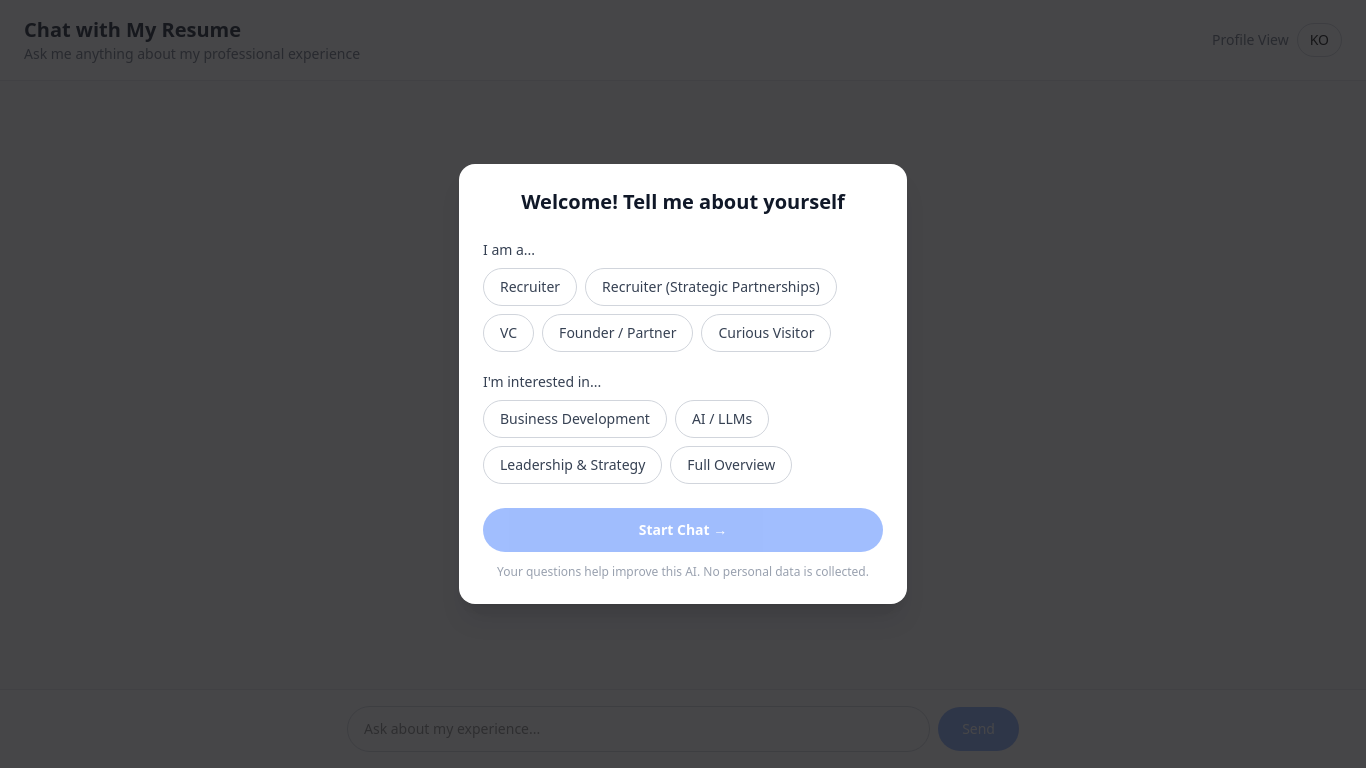
Test: late legacy welcome cannot replace a user message or reset
Click the radio button labelled "Recruiter" at (530, 287), box [483, 268, 577, 306]
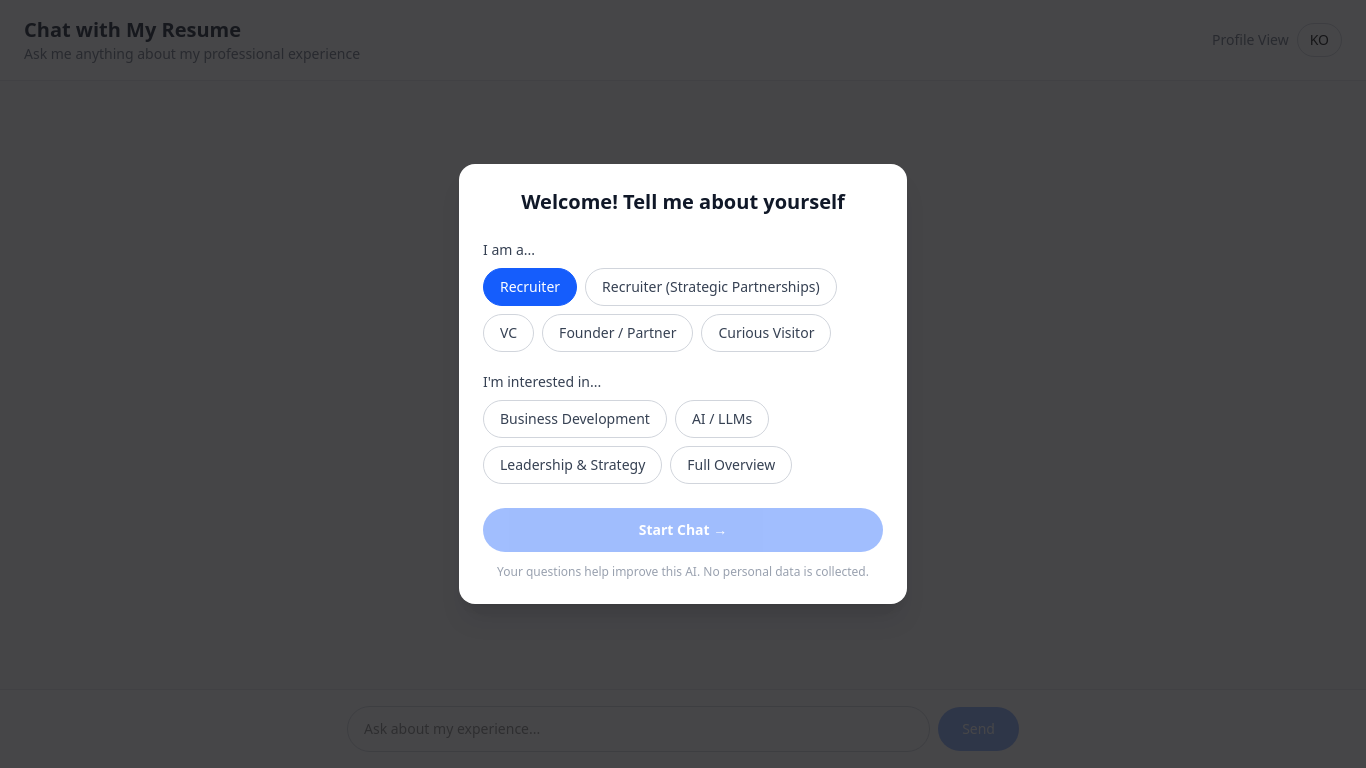
Click the radio button labelled "Business Development" at (575, 419), box [483, 400, 667, 438]
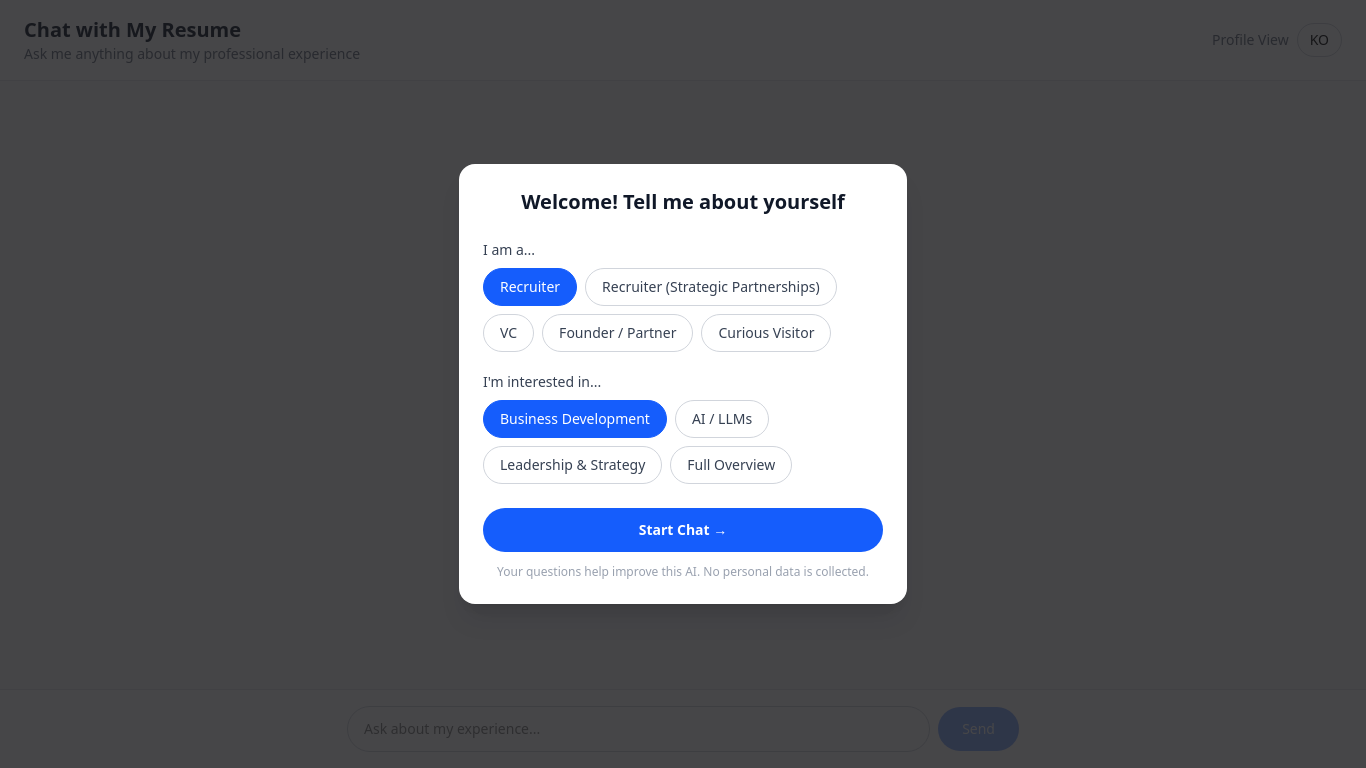
Click the button "Start Chat →" at (683, 530), box [483, 508, 883, 552]
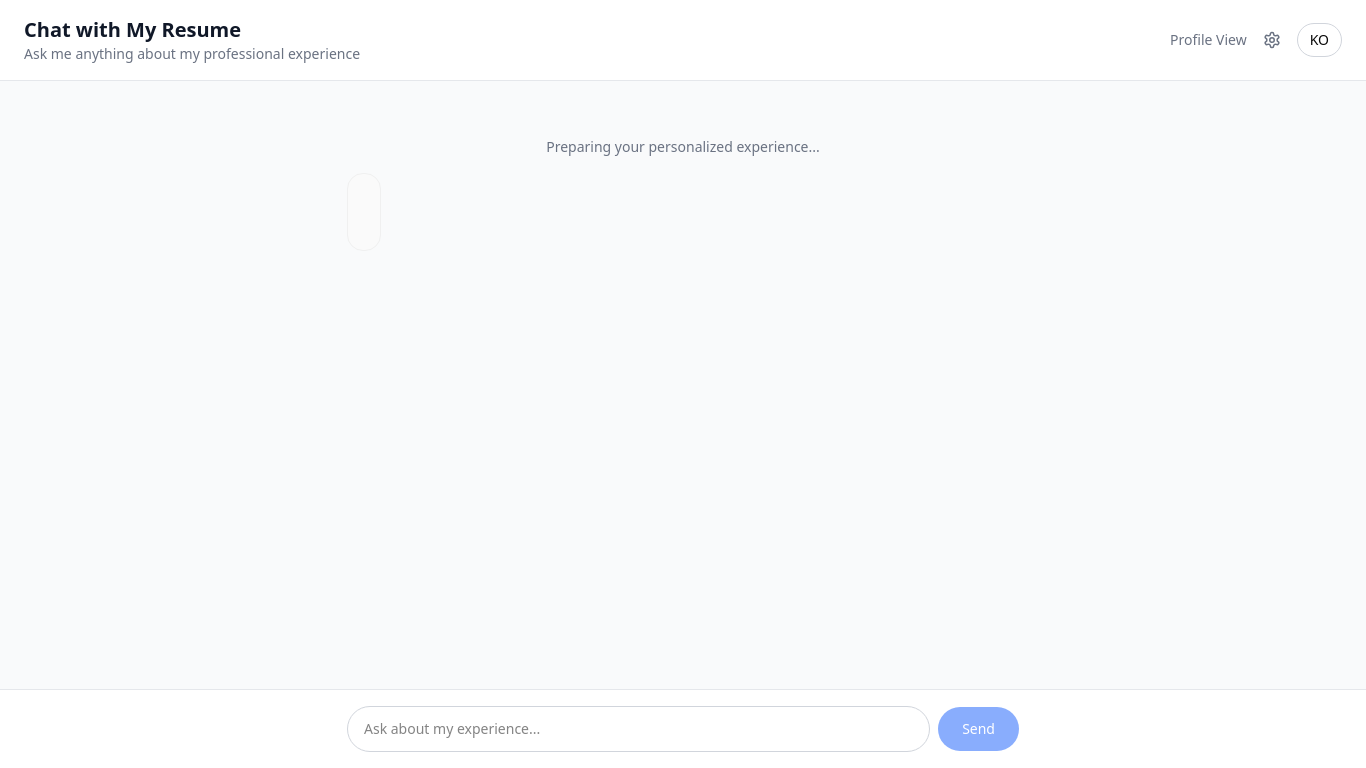
Expected: the button "Start Chat" is gone
Type "My question" into the field with placeholder "Ask about my experience..." at (639, 729), box [347, 706, 930, 752]
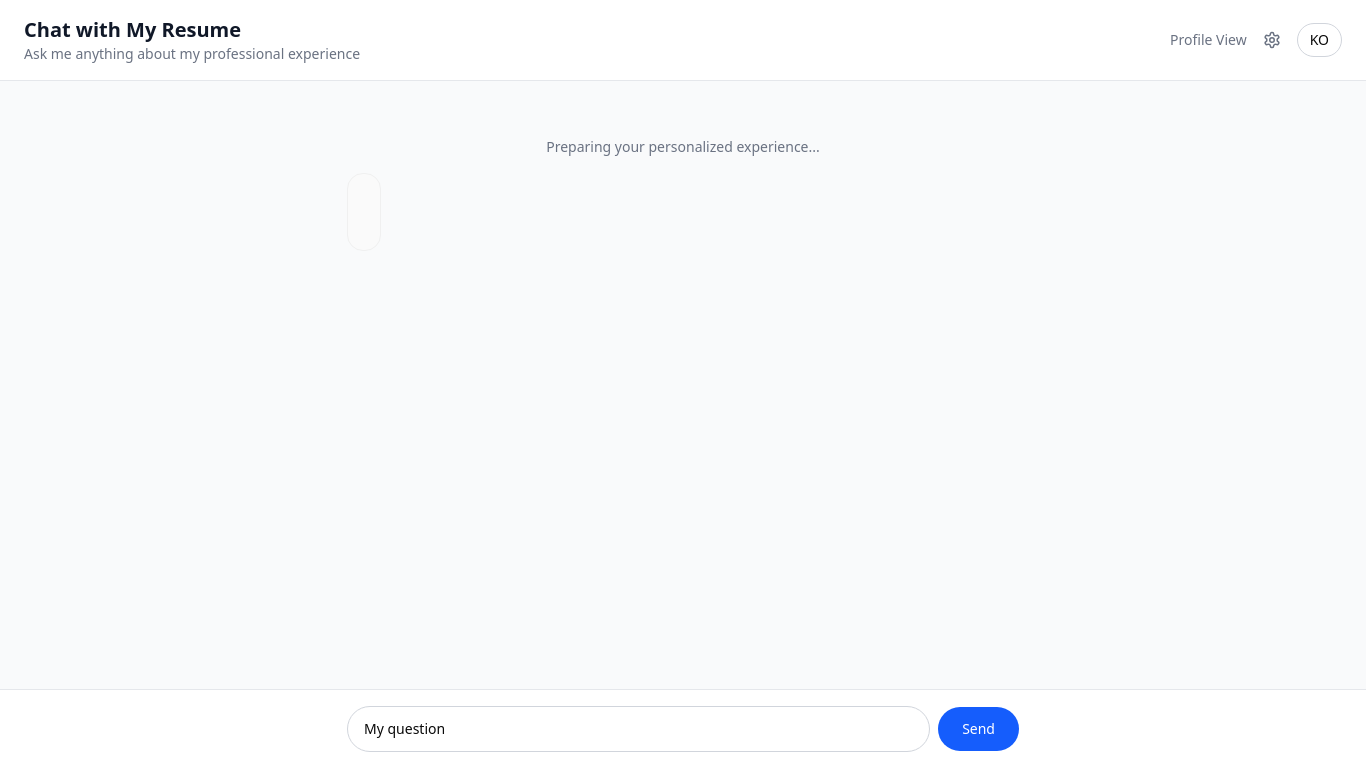
Click the button "Send" at (979, 729), box [938, 707, 1019, 751]
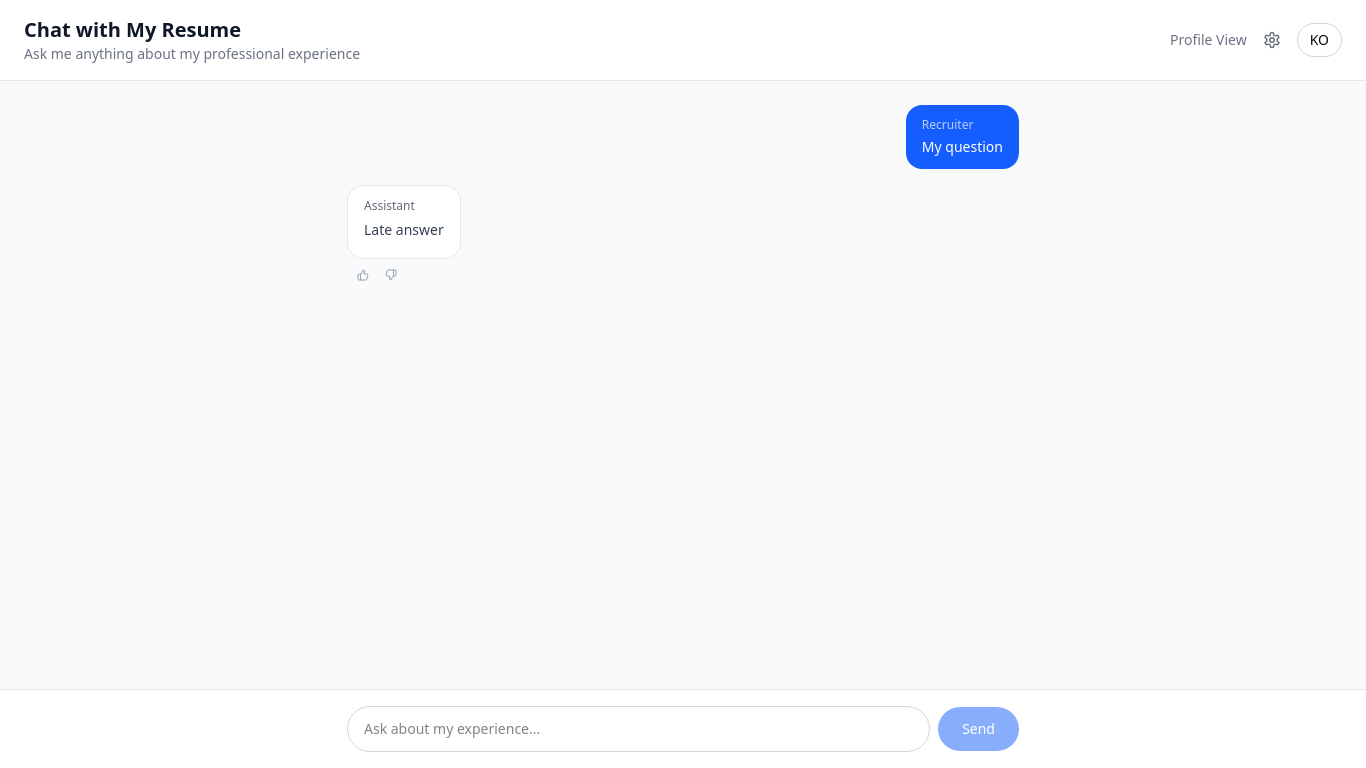
Expected: the text "My question" is shown, [922, 137, 1003, 156]
Click the button titled "Reset settings" at (1272, 40), box [1255, 23, 1289, 57]
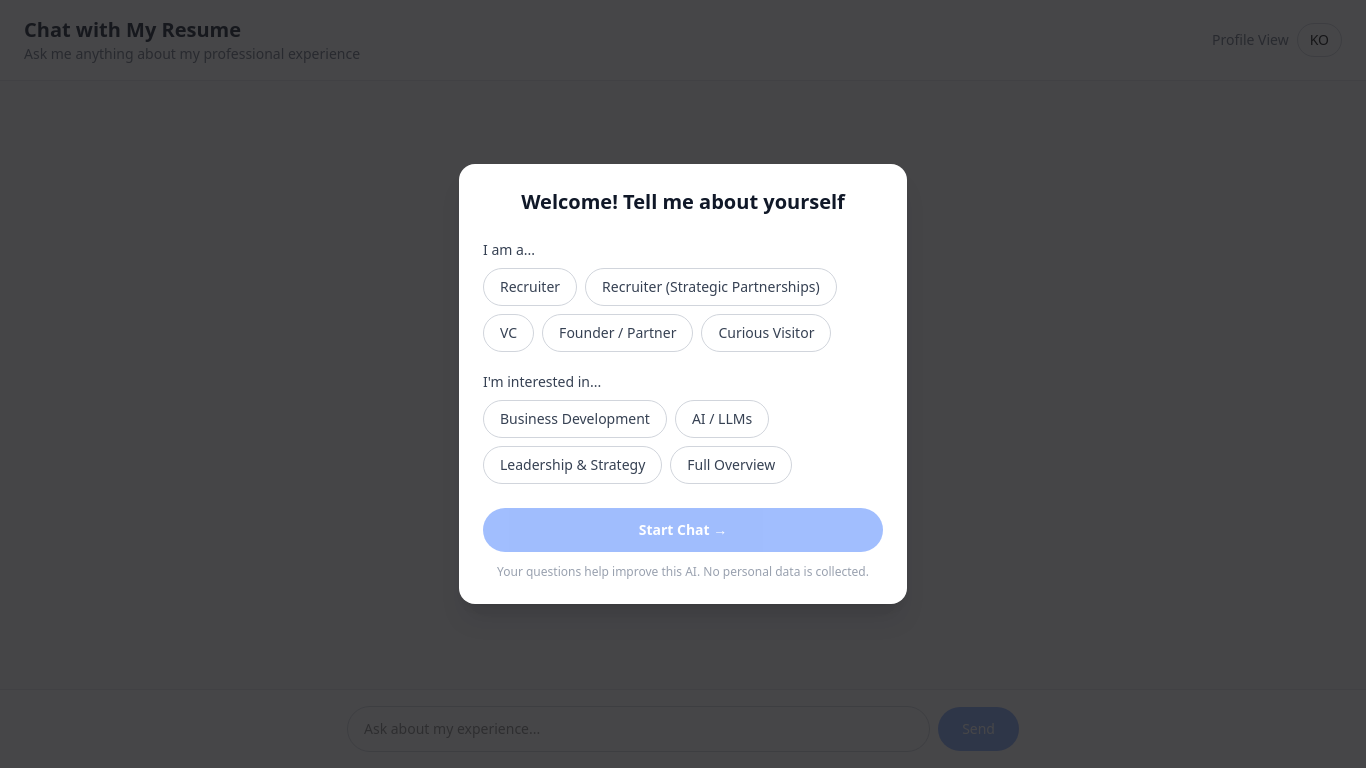
Expected: the text "My question" is gone
